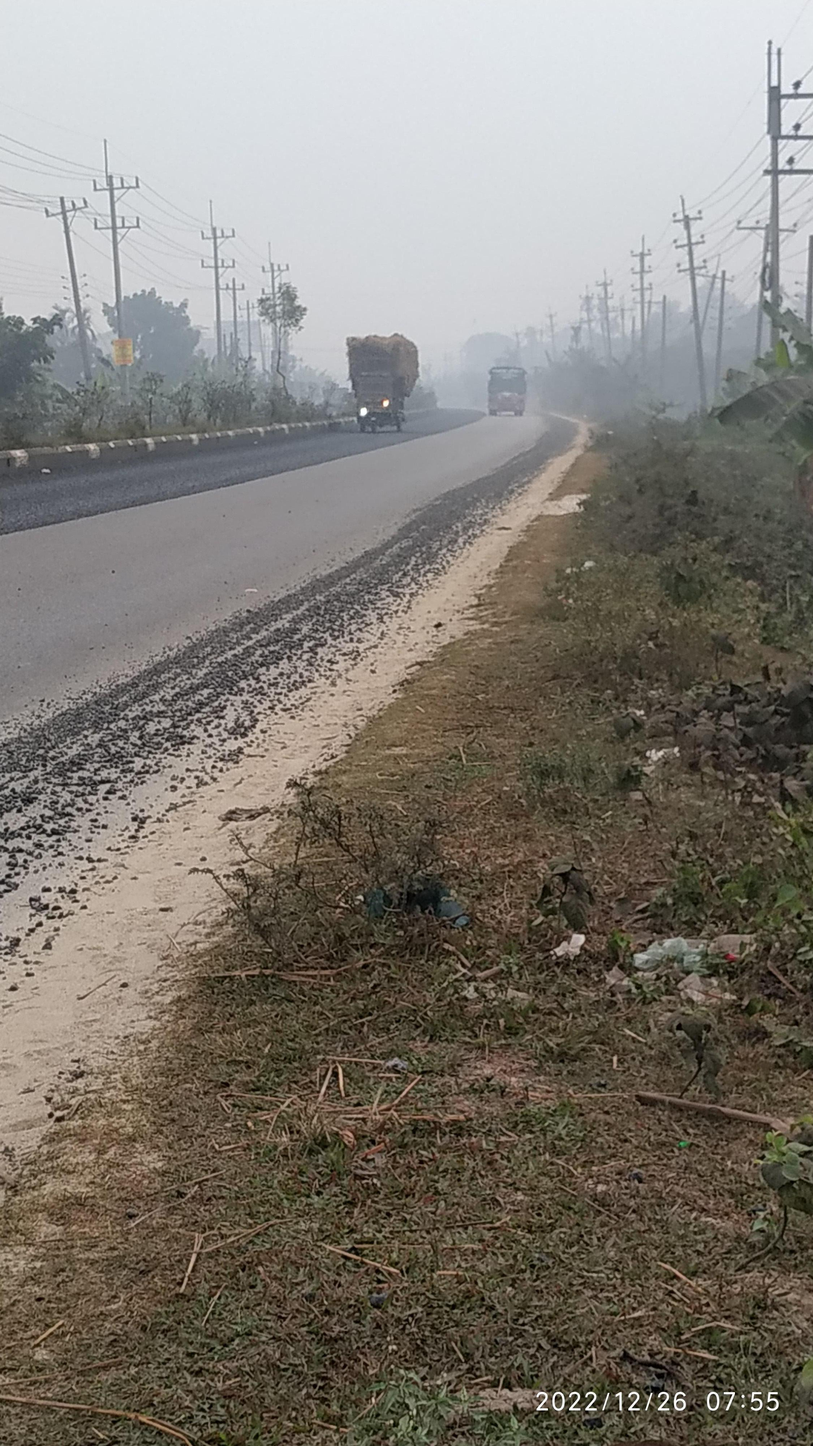Bus: (466, 352, 543, 435)
Truck: (339, 325, 434, 447)
